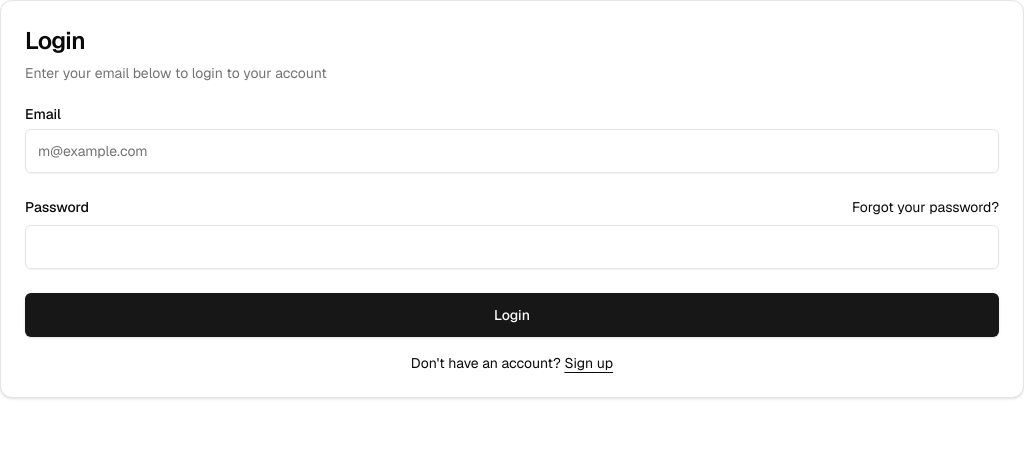
auth form accessibility wiring › announces a failed sign-in as an alert tied to both fields
Type "user@example.com" into the field labelled "Email" at (512, 151), box [25, 129, 999, 173]
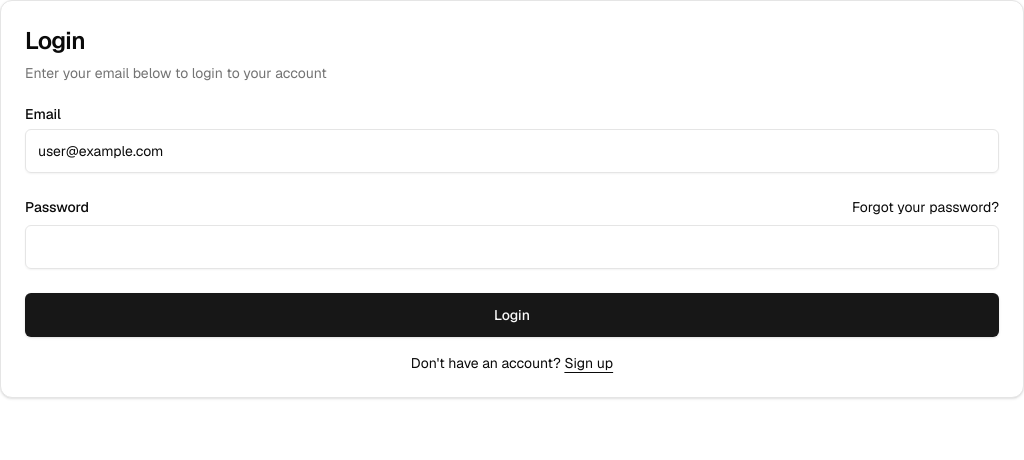
Type "sup3r-secret" into the password field labelled "Password" at (512, 247), box [25, 225, 999, 269]
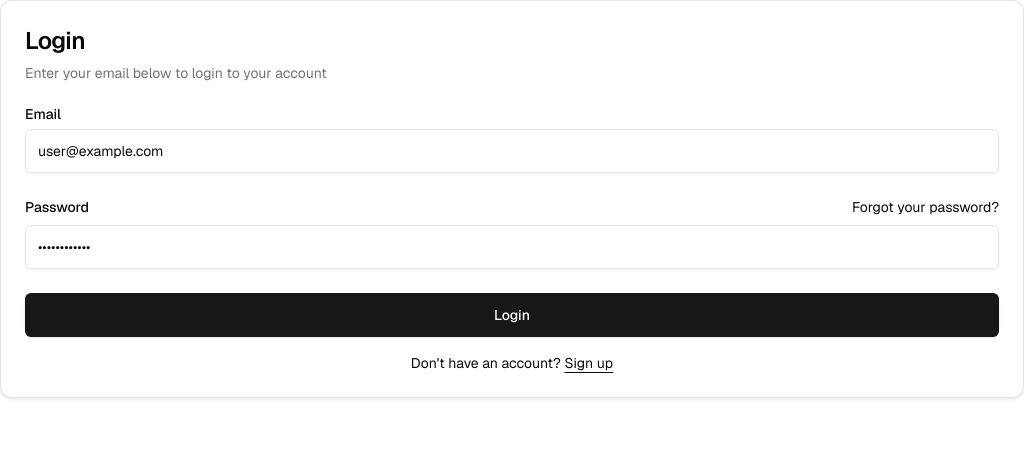
Click the button "Login" at (512, 315), box [25, 293, 999, 337]
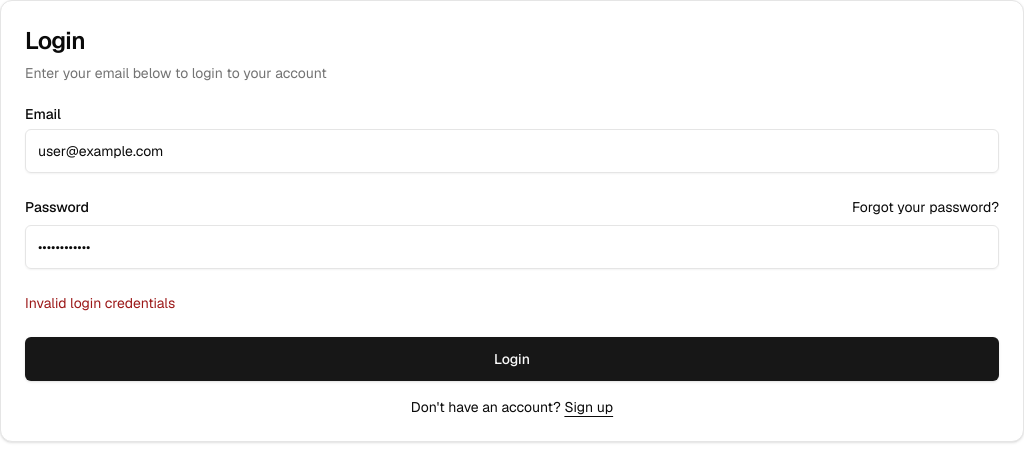
Expected: the message reads "Invalid login credentials", [25, 294, 175, 312]
